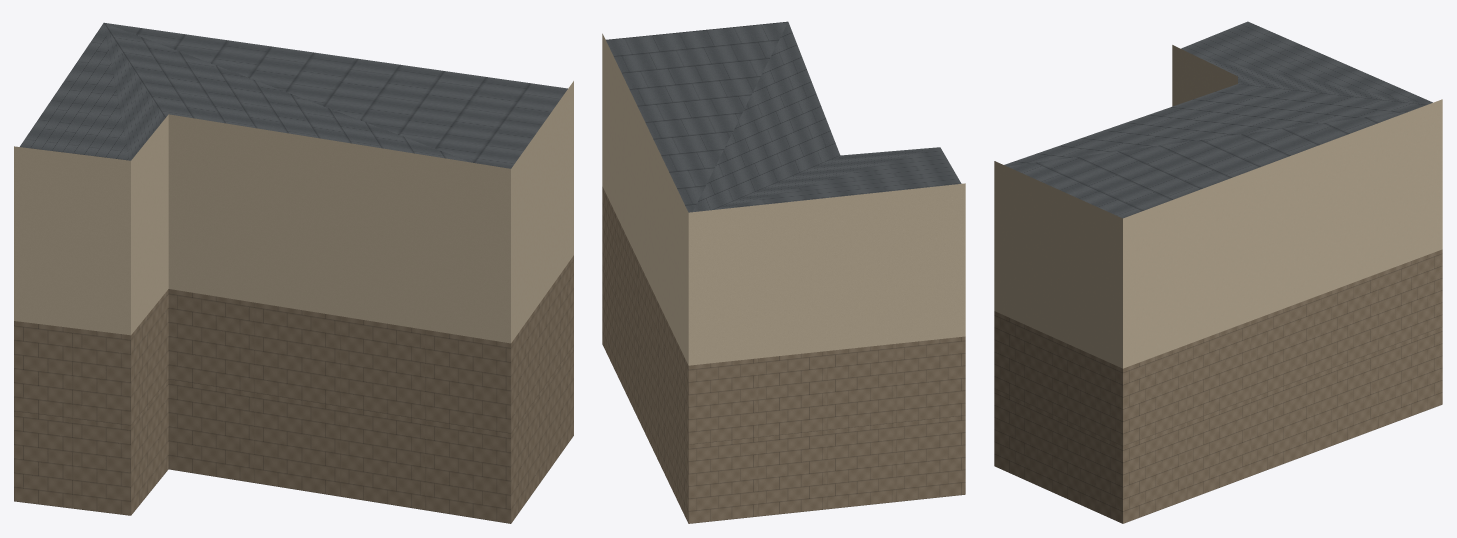
Rendered from bld_c23_16_571.gltf.
3 renders of one model, left to right at view 1: azimuth 30°, elevation 25°; view 2: azimuth 150°, elevation 25°; view 3: azimuth 270°, elevation 25°, orthographic. The views are drawn at different scales.
Visible parts, largest first — view 1: bld_c23_16_571; view 2: bld_c23_16_571; view 3: bld_c23_16_571.
Part boxes in pixels (x1,y1,x2,y2): bld_c23_16_571: (14,22,573,523); bld_c23_16_571: (602,21,965,523); bld_c23_16_571: (994,21,1442,523).
Bounding box in the file's own units: 14.04 × 9.78 × 13.01.
4 materials, 4 textured.
